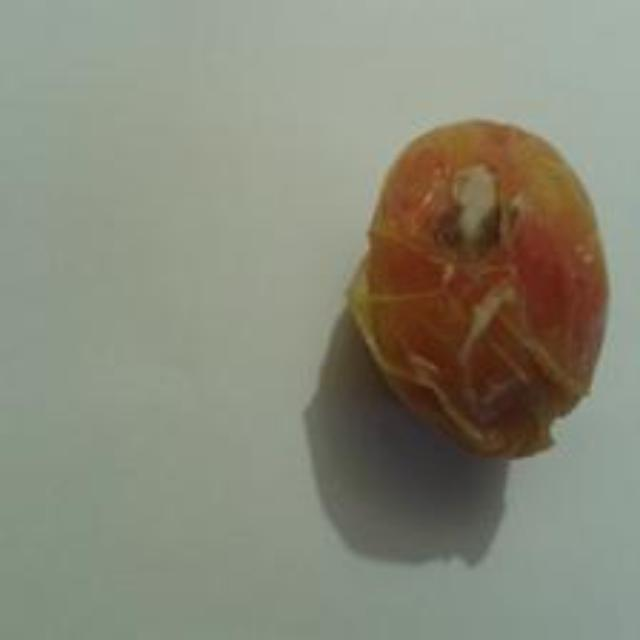defect: (341, 101, 623, 468)
